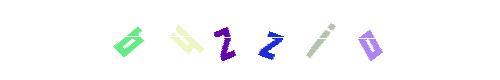2: (192, 0, 272, 80)
B: (89, 0, 169, 80)
J: (230, 0, 310, 80)
O: (315, 0, 395, 80)
Y: (185, 0, 265, 80)
Z: (210, 0, 290, 80)
